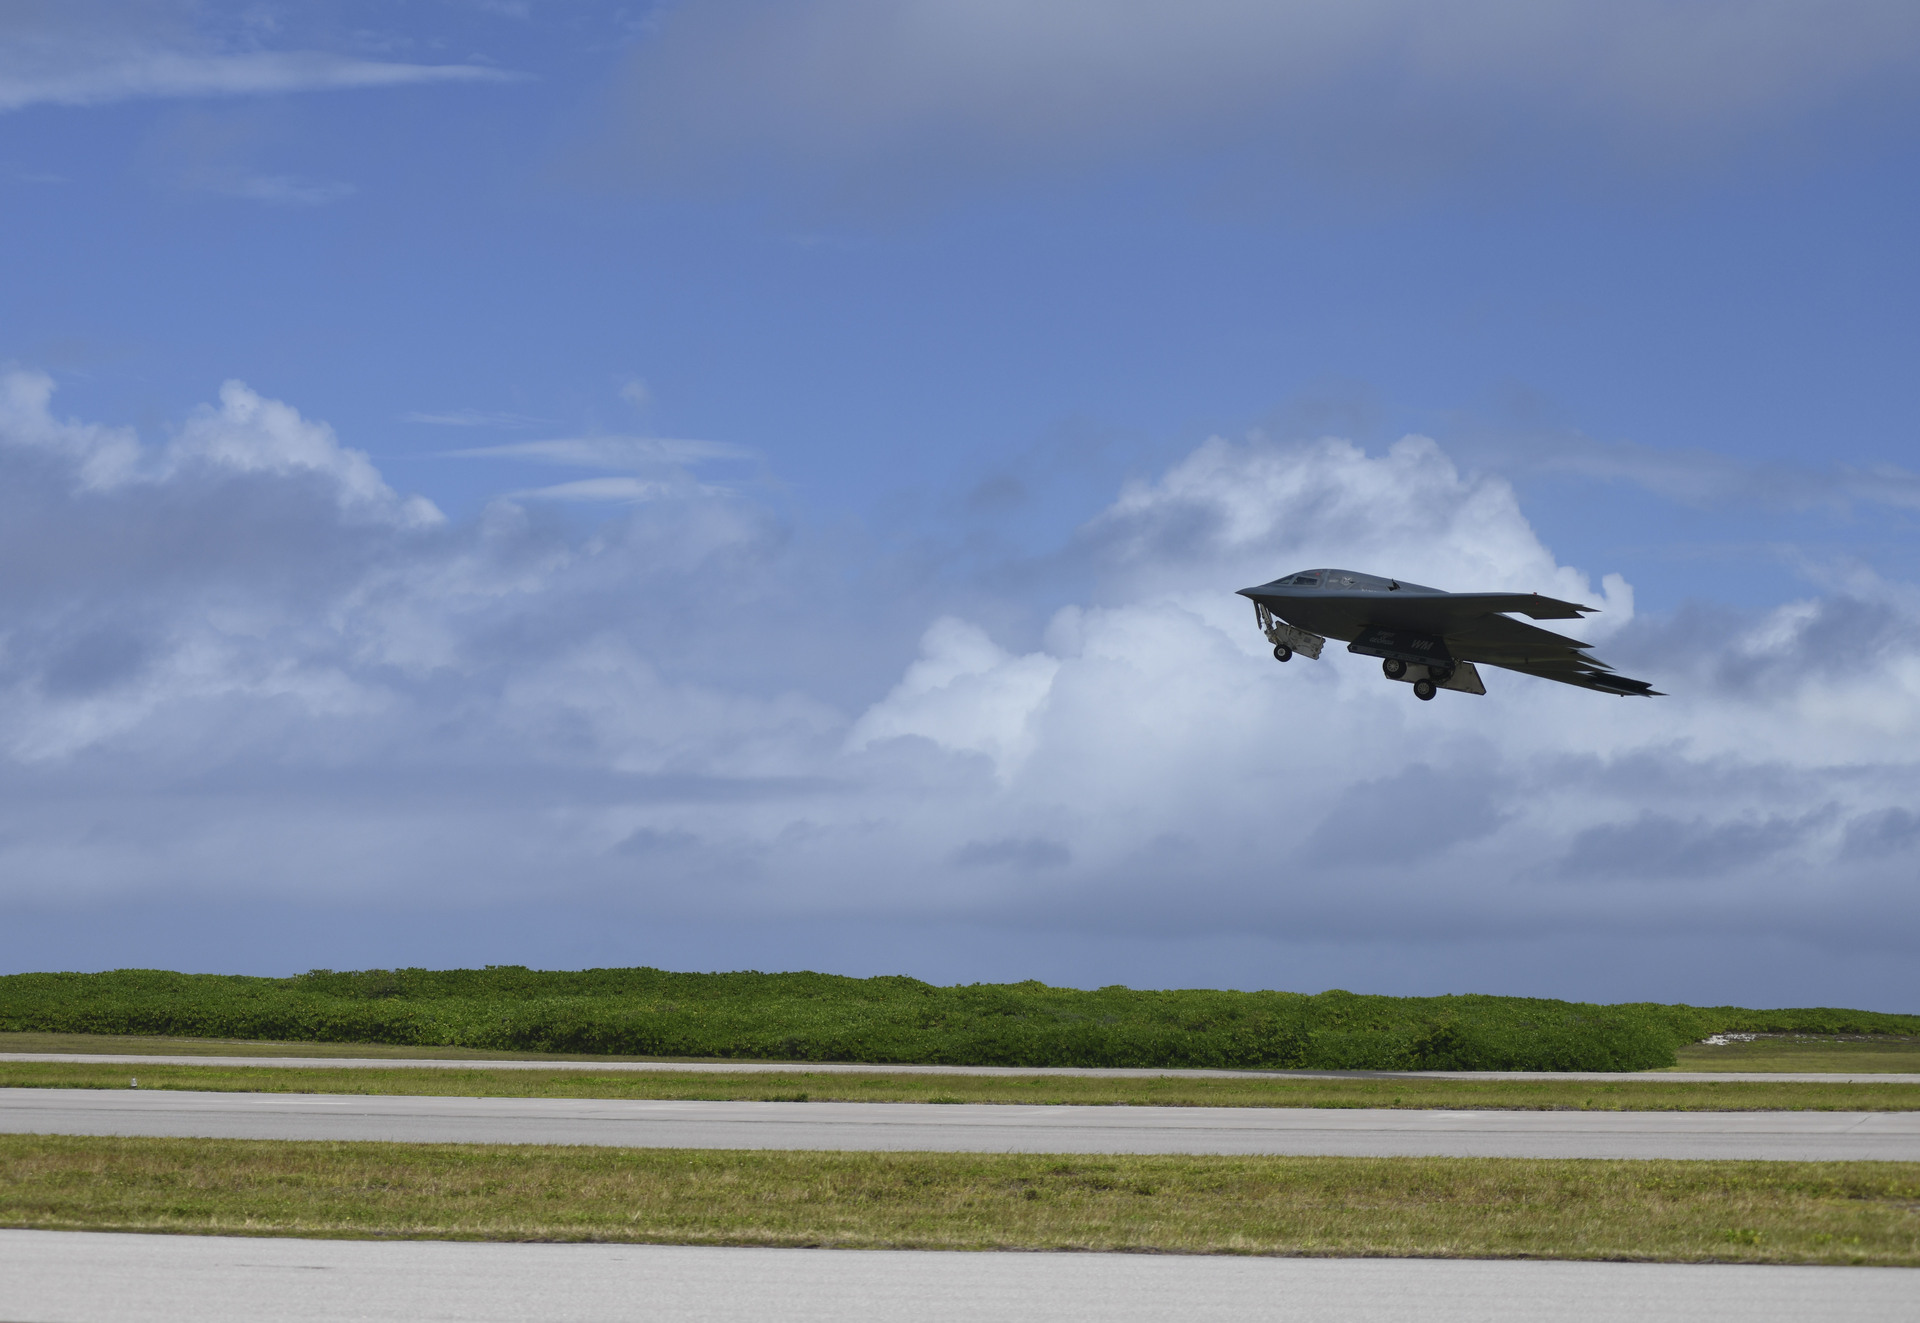B2: (1233, 567, 1671, 702)
